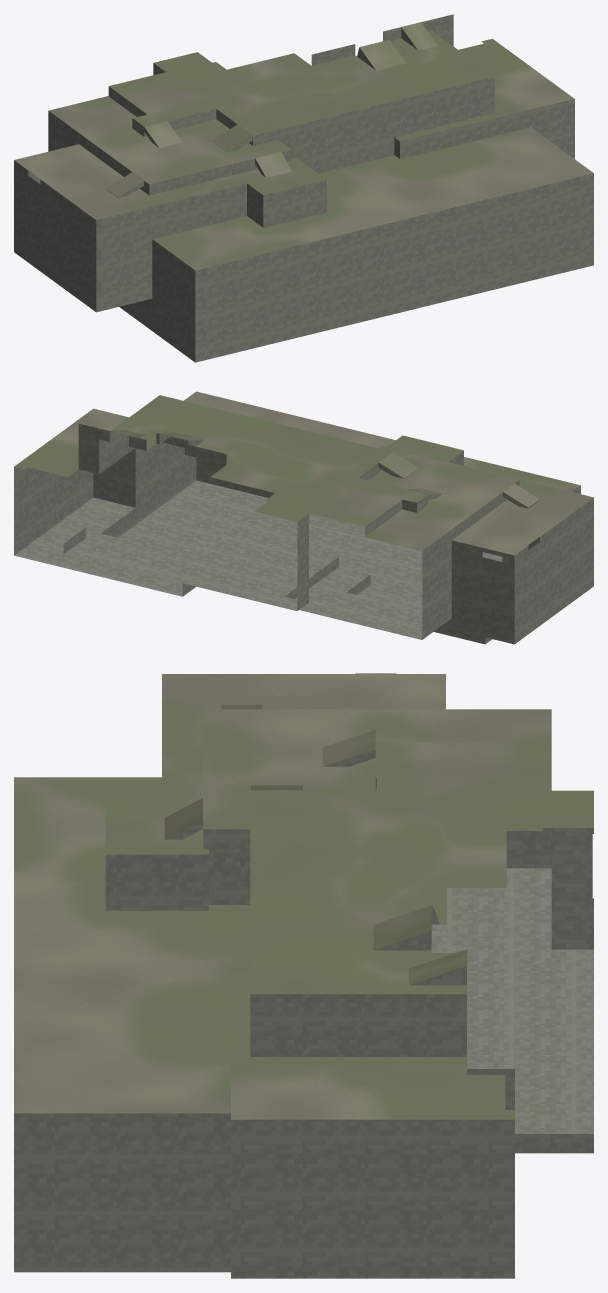
Rendered from SM_QD_Revision_MountainSouth.fbx.
3 renders of one model, top to bottom at view 1: azimuth 30°, elevation 25°; view 2: azimuth 150°, elevation 25°; view 3: azimuth 270°, elevation 25°, orthographic. The views are drawn at different scales.
Visible parts, largest first — view 1: SM_QD_Revision_MountainSouth; view 2: SM_QD_Revision_MountainSouth; view 3: SM_QD_Revision_MountainSouth.
Boxes of the visible parts, x1,y1,x2,y2 form: SM_QD_Revision_MountainSouth: (14, 14, 593, 362); SM_QD_Revision_MountainSouth: (14, 391, 593, 644); SM_QD_Revision_MountainSouth: (14, 673, 593, 1278).
Size of the model in its own units: 76.99 by 44.93 by 23.21.
